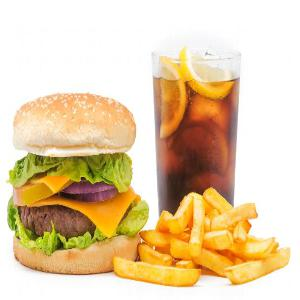cheeseburger_475cal: (6, 86, 147, 274)
fries_350cal: (153, 182, 292, 295)
